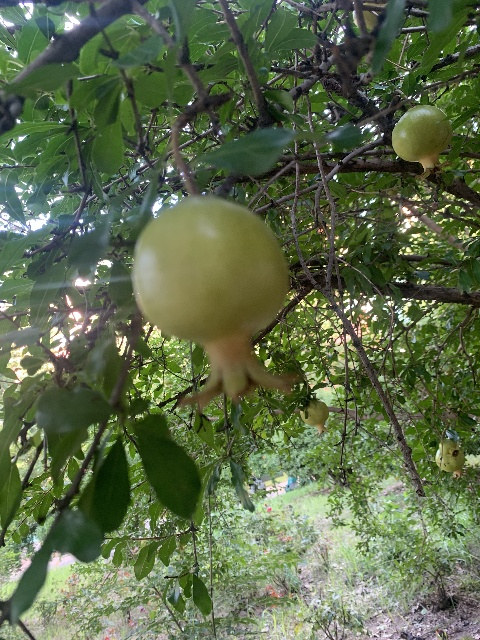mid-growth: (130, 195, 299, 411), (391, 105, 453, 182), (299, 399, 332, 437), (435, 448, 467, 480), (439, 439, 465, 459), (444, 365, 453, 377)
